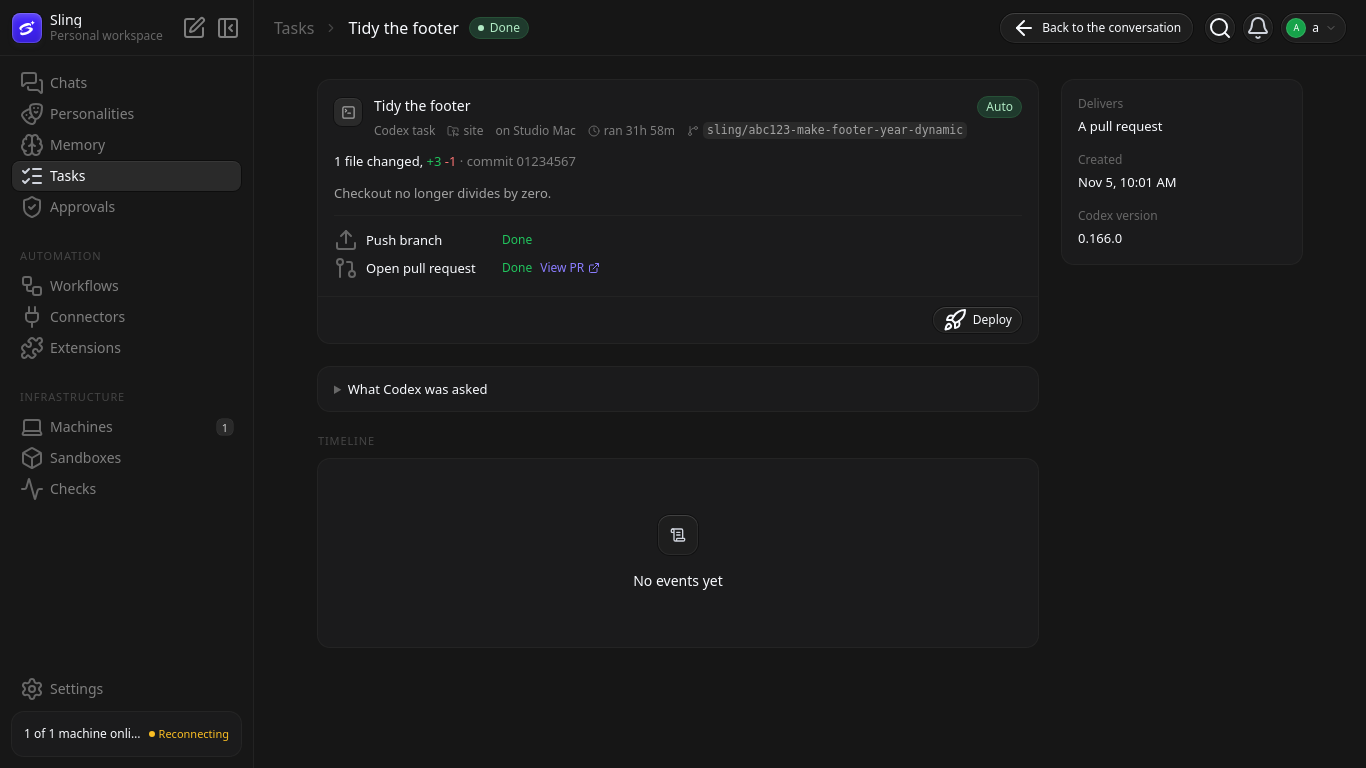
Test: deploy steps on a task › deploys a delivered PR later, and shows why it can't
Click the button "Deploy": click(977, 320) [933, 307, 1022, 333]
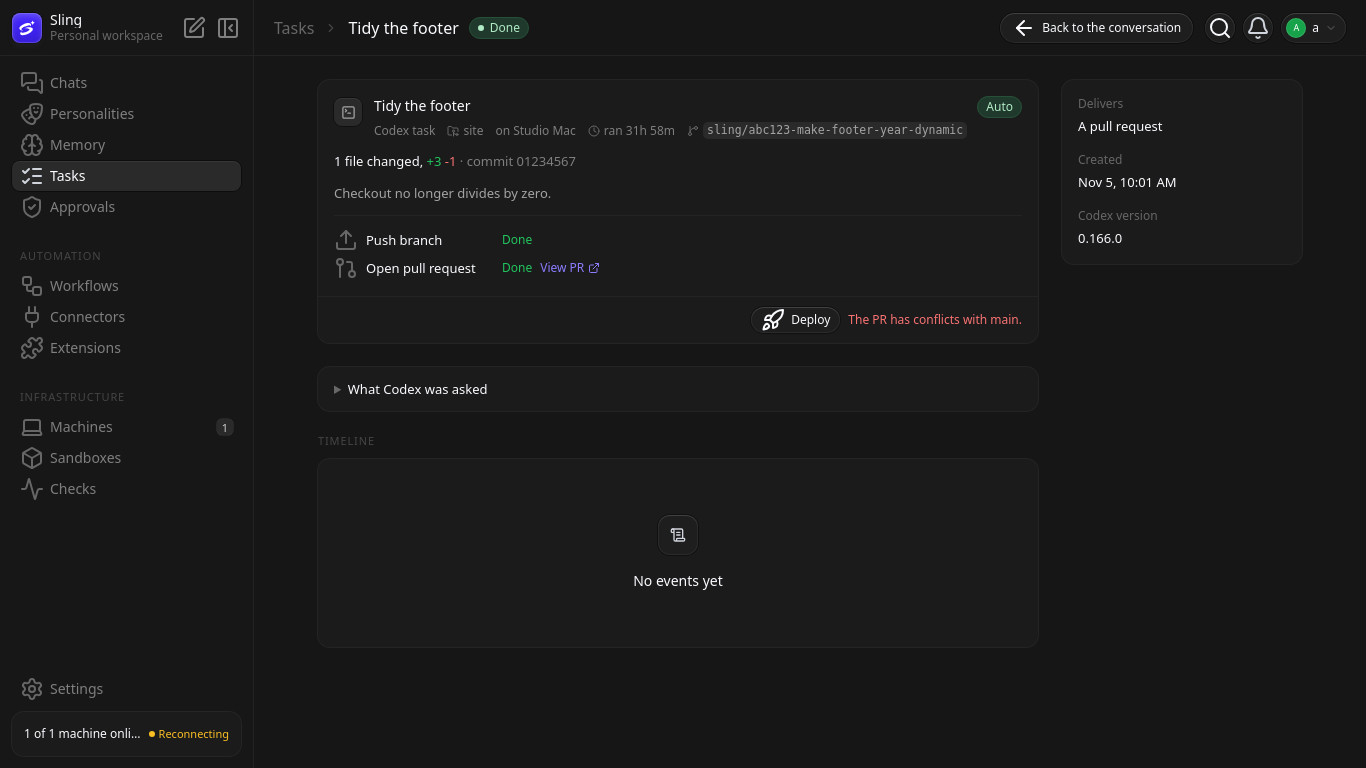
Expected: the text "The PR has conflicts with main." is shown, [848, 312, 1022, 328]
Click the button "Deploy": click(796, 320) [751, 307, 840, 333]
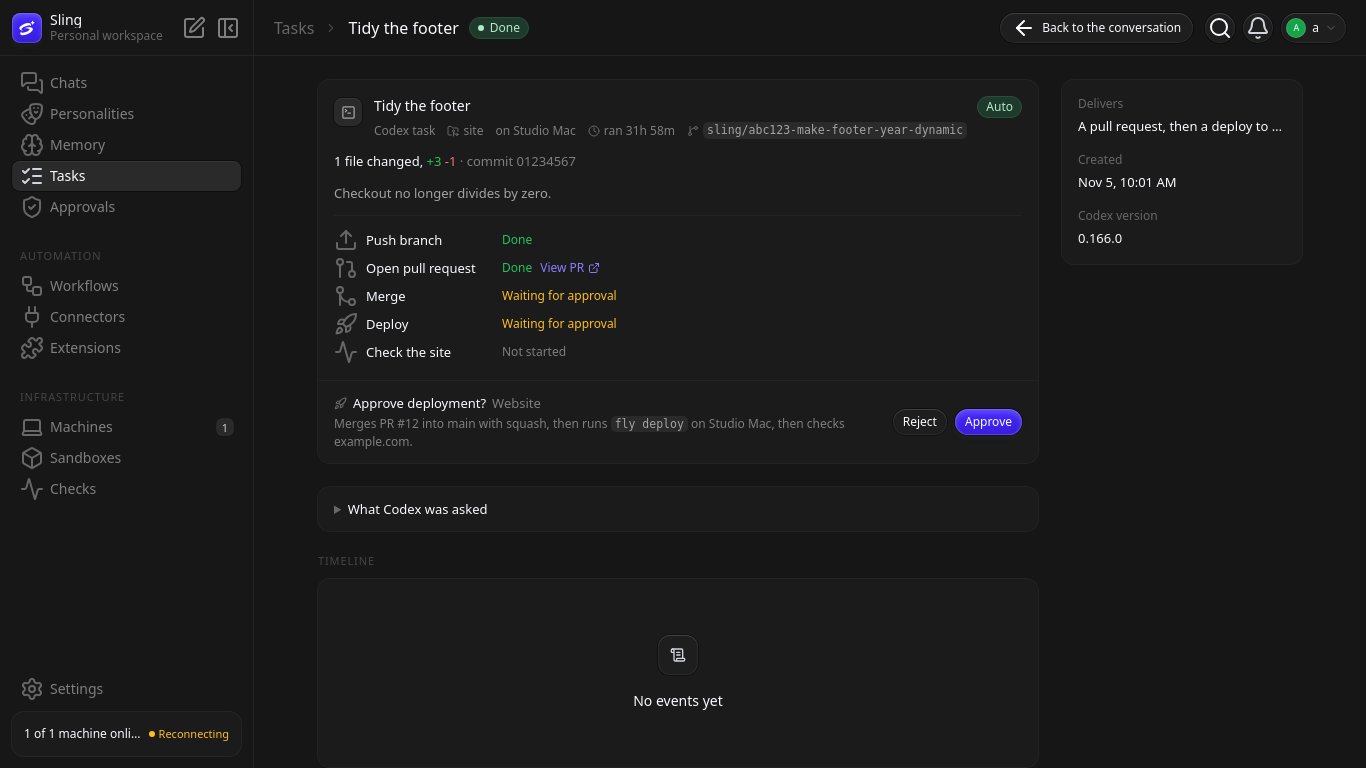
Expected: the text "Approve deployment?" is shown, [353, 394, 486, 412]
Expected: the element showing "A pull request, then a deploy to Website" is shown, [1078, 116, 1286, 136]
